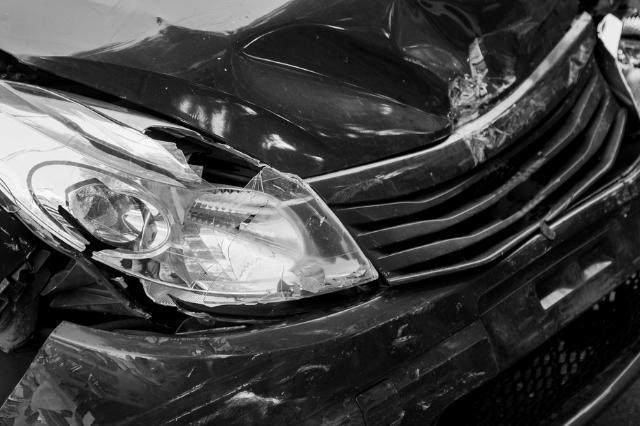Bonnet: (0, 0, 640, 303)
Bumper: (0, 147, 640, 426)
Light: (0, 74, 383, 294)
